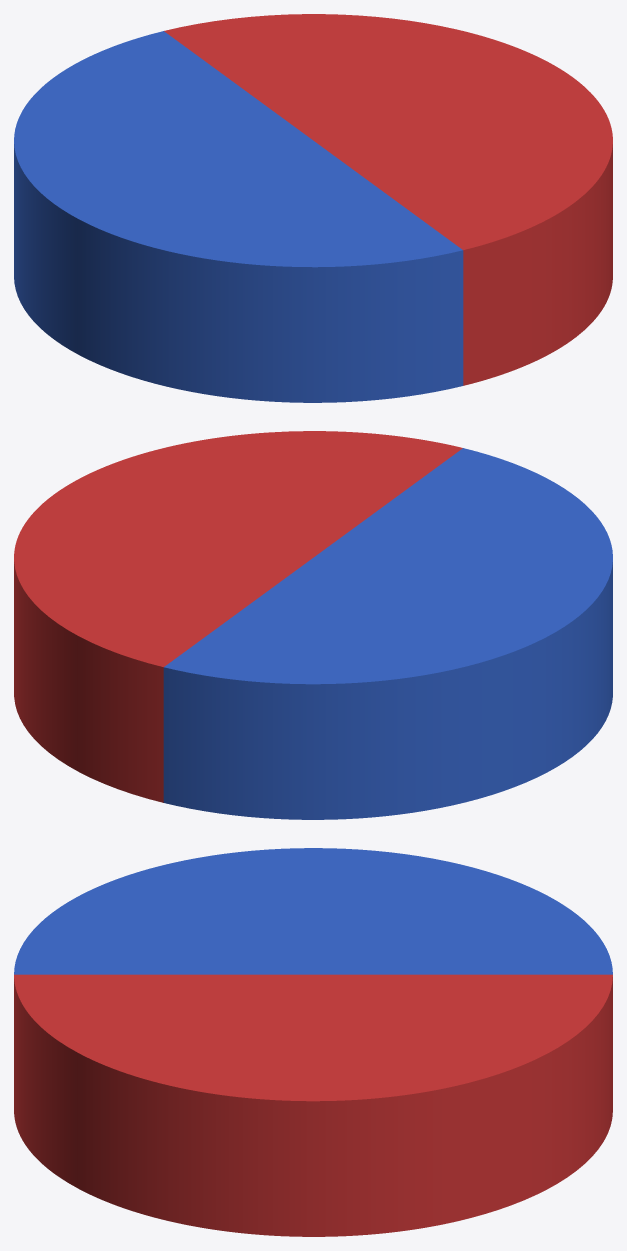
Rendered from magnet_d4x1_diametric.glb.
The picture shows the model from 3 angles, top to bottom: view 1: azimuth 30°, elevation 25°; view 2: azimuth 150°, elevation 25°; view 3: azimuth 270°, elevation 25°; orthographic projection.
Visible parts, largest first — view 1: S_half, N_half; view 2: S_half, N_half; view 3: N_half, S_half.
Part boxes in pixels (bbox=[...]): S_half: bbox=[14, 31, 463, 402]; N_half: bbox=[164, 14, 612, 385]; S_half: bbox=[163, 448, 612, 819]; N_half: bbox=[14, 431, 462, 802]; N_half: bbox=[14, 974, 612, 1236]; S_half: bbox=[14, 848, 612, 974].
Bounding box in the file's own units: 0.004 × 0.001 × 0.004.
